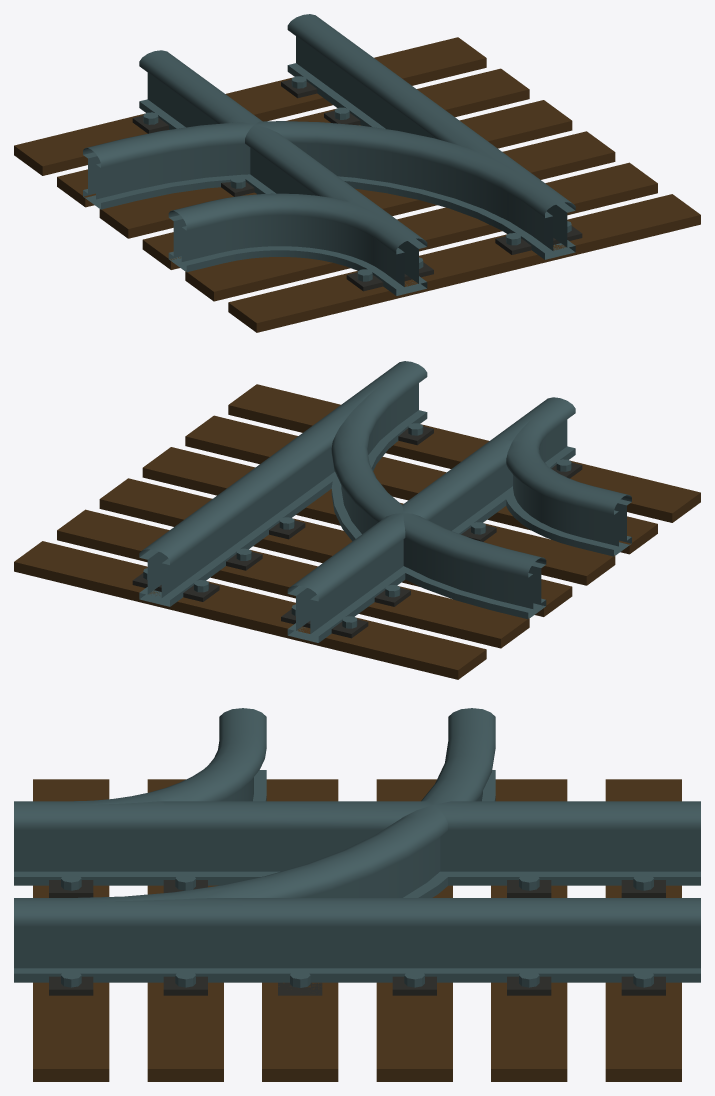
The model's file is CA_057_059_062_rail_branch_left.glb.
3 views of the same model, one above another, from view 1: azimuth 30°, elevation 25°; view 2: azimuth 150°, elevation 25°; view 3: azimuth 270°, elevation 25° (orthographic). The views are drawn at different scales.
Parts seen in each view (by area): view 1: branching_rails, wooden_planks; view 2: branching_rails, wooden_planks; view 3: branching_rails, wooden_planks.
Boxes of the visible parts, left/top/right/bottom form: branching_rails: left=83, top=14, right=575, bottom=295; wooden_planks: left=14, top=37, right=700, bottom=332; branching_rails: left=139, top=361, right=631, bottom=642; wooden_planks: left=14, top=384, right=700, bottom=679; branching_rails: left=14, top=708, right=700, bottom=982; wooden_planks: left=33, top=779, right=681, bottom=1081.
Bounding box in the file's own units: 2.25 × 0.3031 × 2.25.
